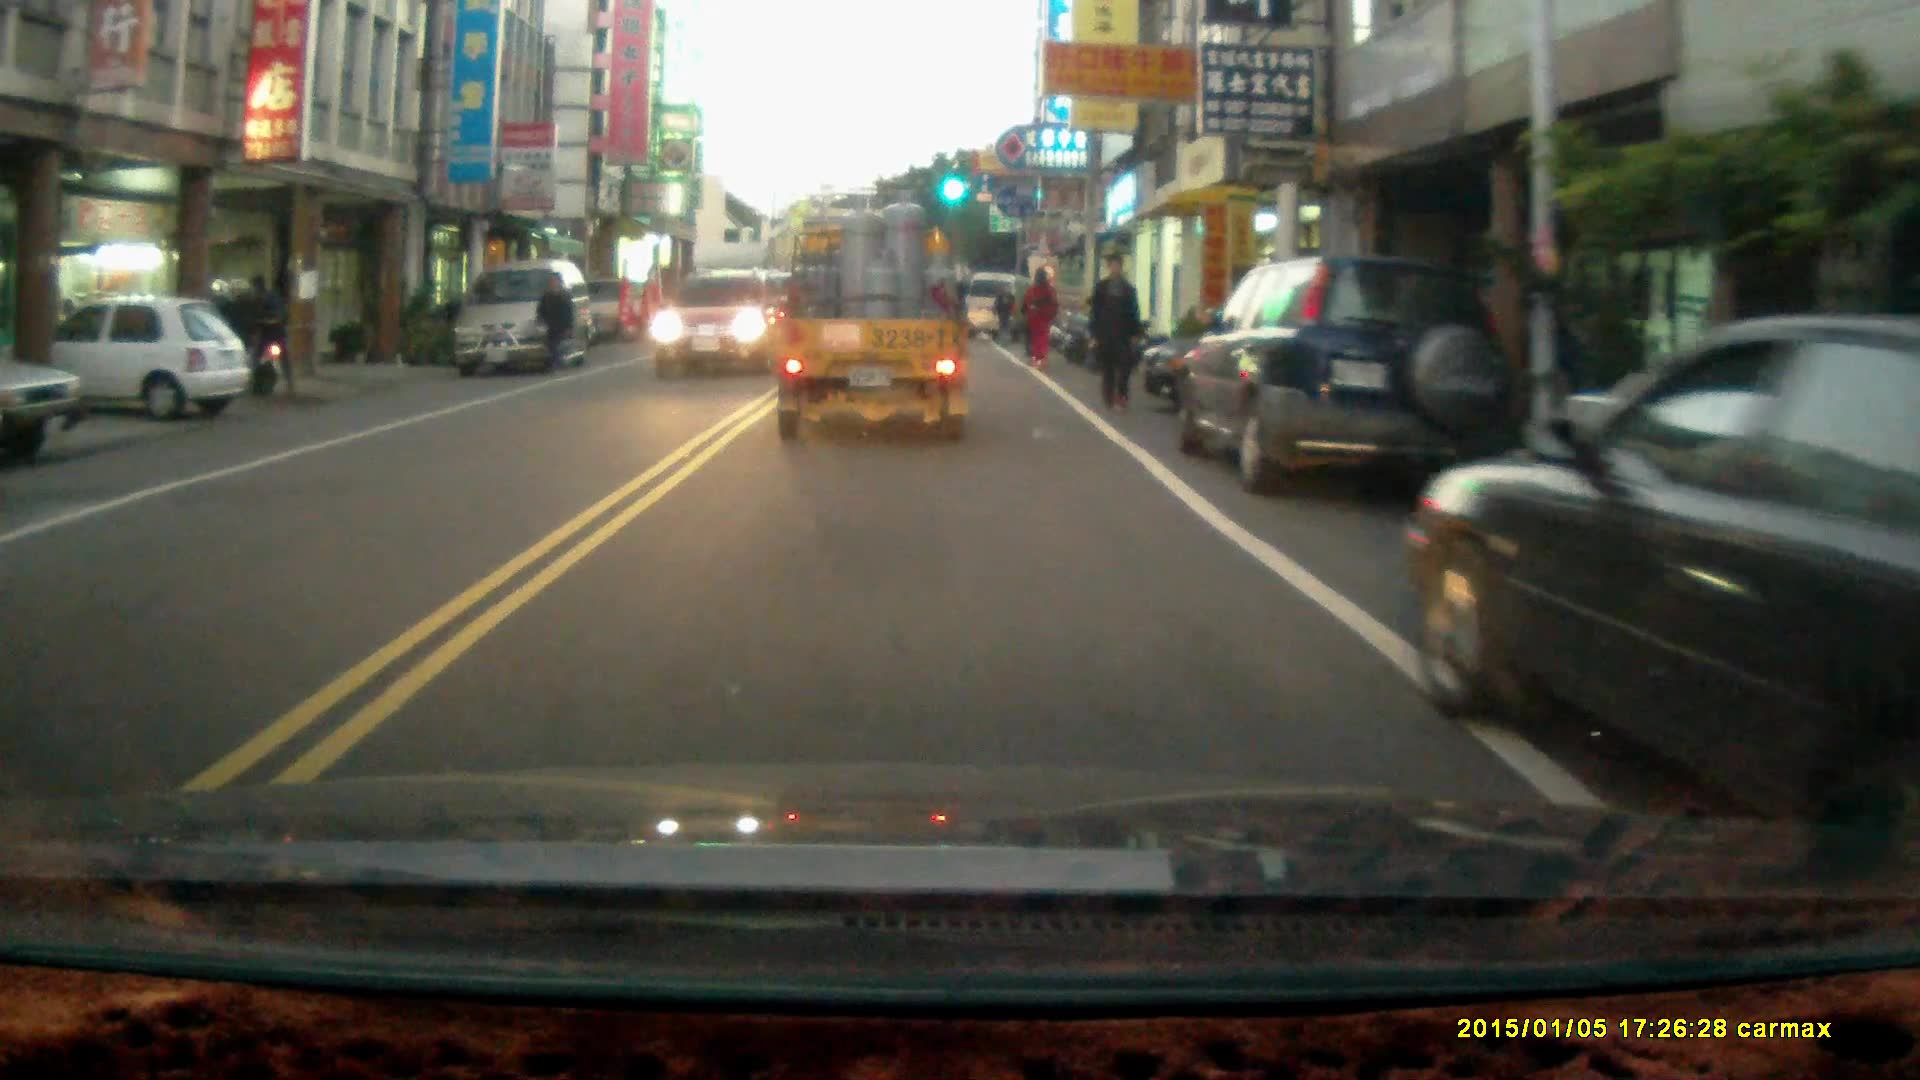pedestrian: (1086, 252, 1146, 418), (249, 267, 296, 395), (534, 272, 577, 379), (1020, 264, 1058, 370), (990, 285, 1018, 346)
rider: (194, 279, 280, 401)
vehicle: (1399, 314, 1920, 819), (1180, 255, 1516, 498), (773, 193, 972, 447), (1, 296, 247, 423), (453, 259, 594, 374), (650, 276, 780, 381)
